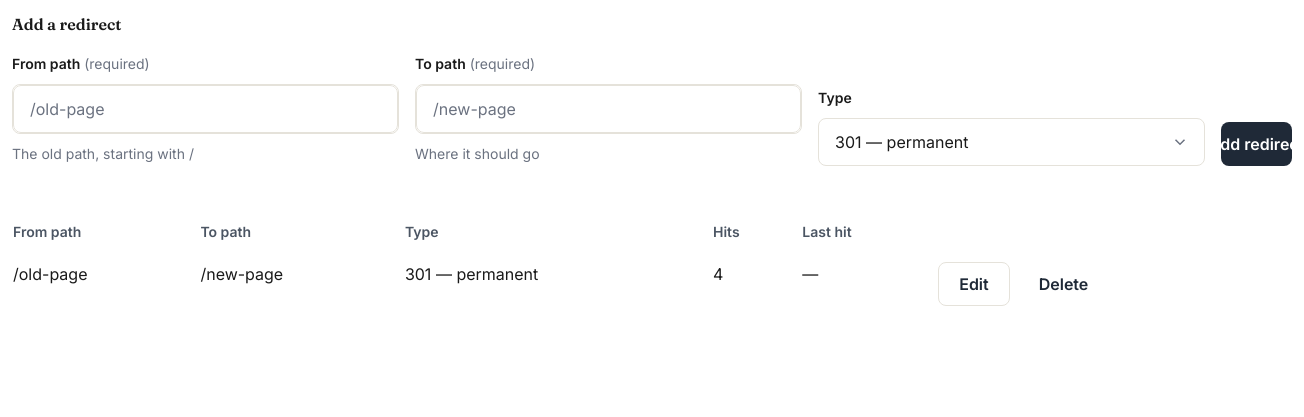
Test: RedirectRulesTable › reveals the edit form seeded with the rule values
Click the button "Edit": (974, 284) [938, 262, 1010, 306]
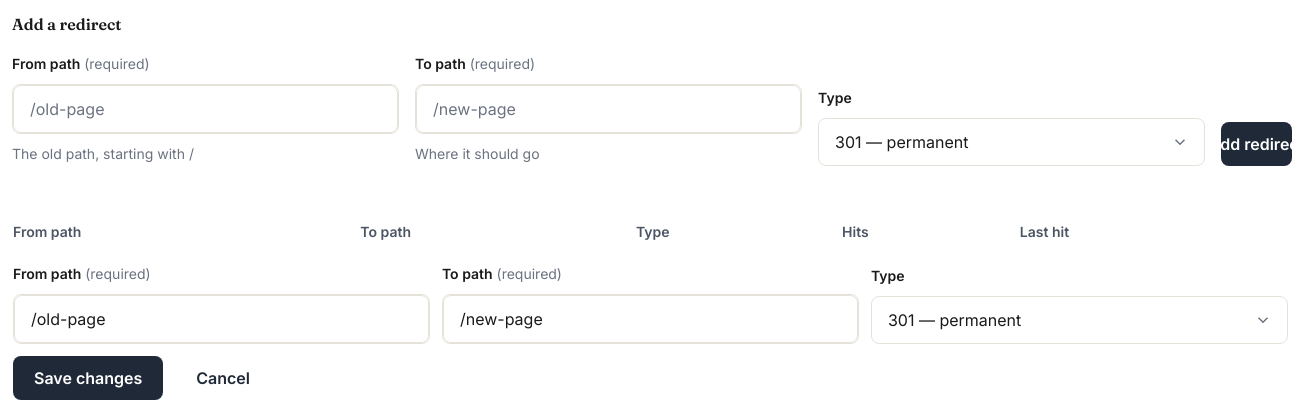
Expected: the 2nd field labelled "From path (required)" holds "/old-page", [14, 295, 429, 343]
